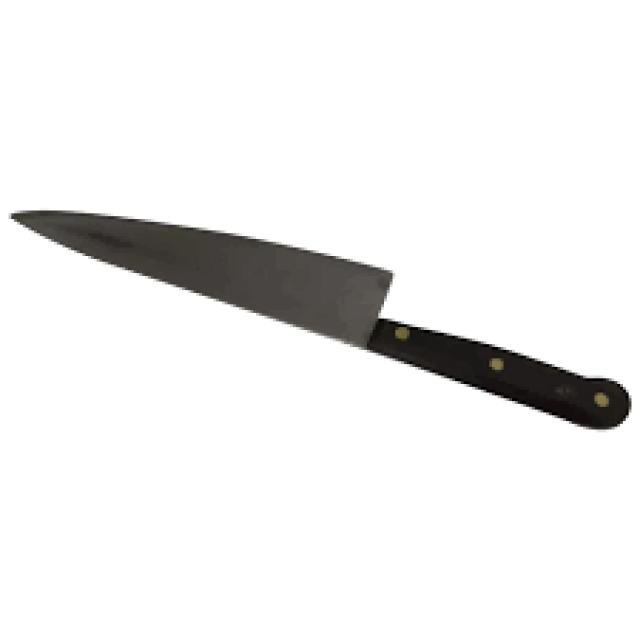Knife: (9, 205, 632, 429)
